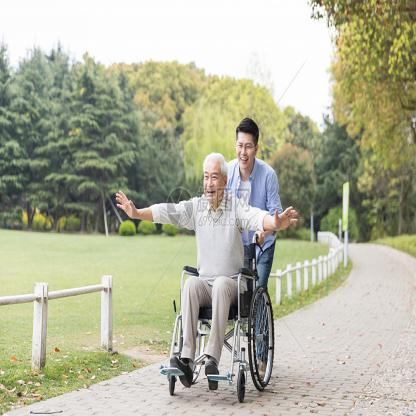wheelchair: (116, 152, 298, 404)
